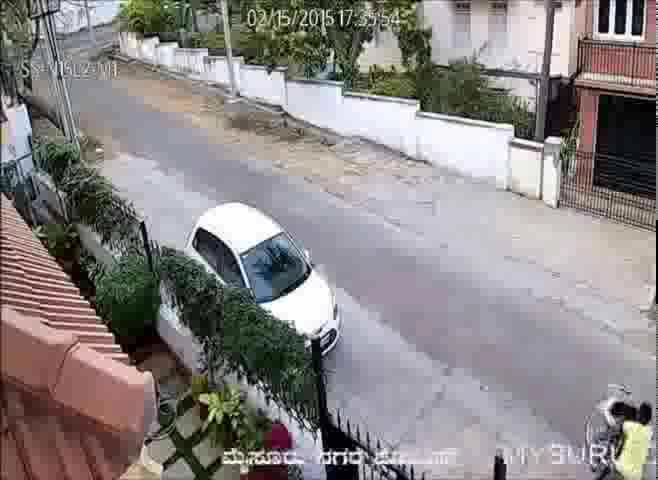snatching objects: (570, 340, 657, 480)
